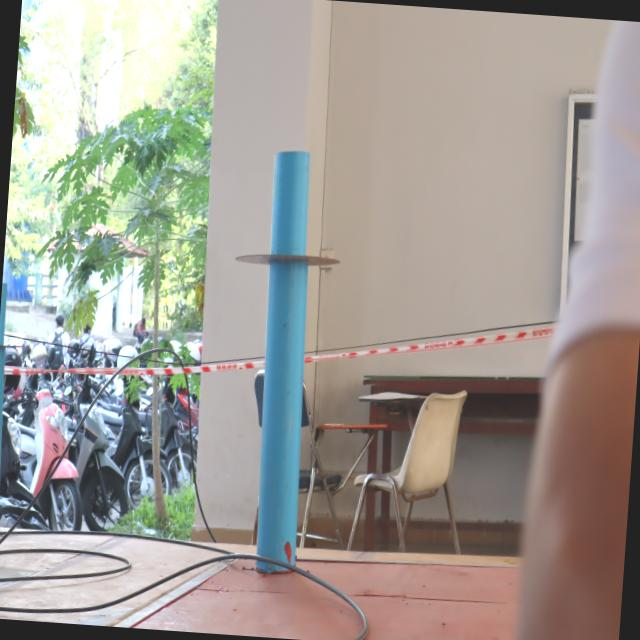pole: (230, 145, 348, 370)
